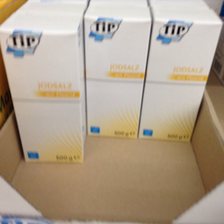spices: (1, 13, 86, 164), (138, 6, 224, 142), (84, 4, 154, 139)
